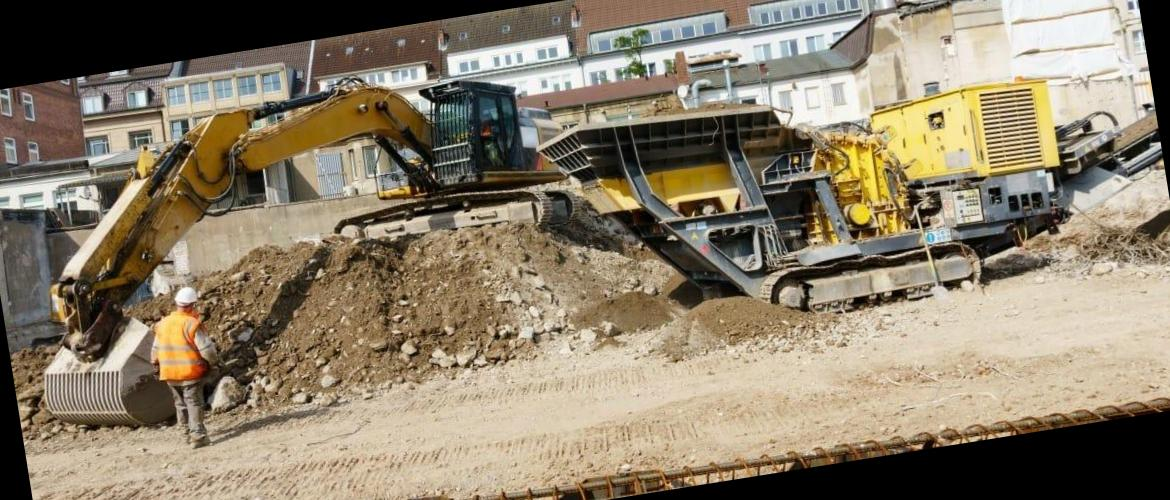Vest: (150, 308, 206, 384)
